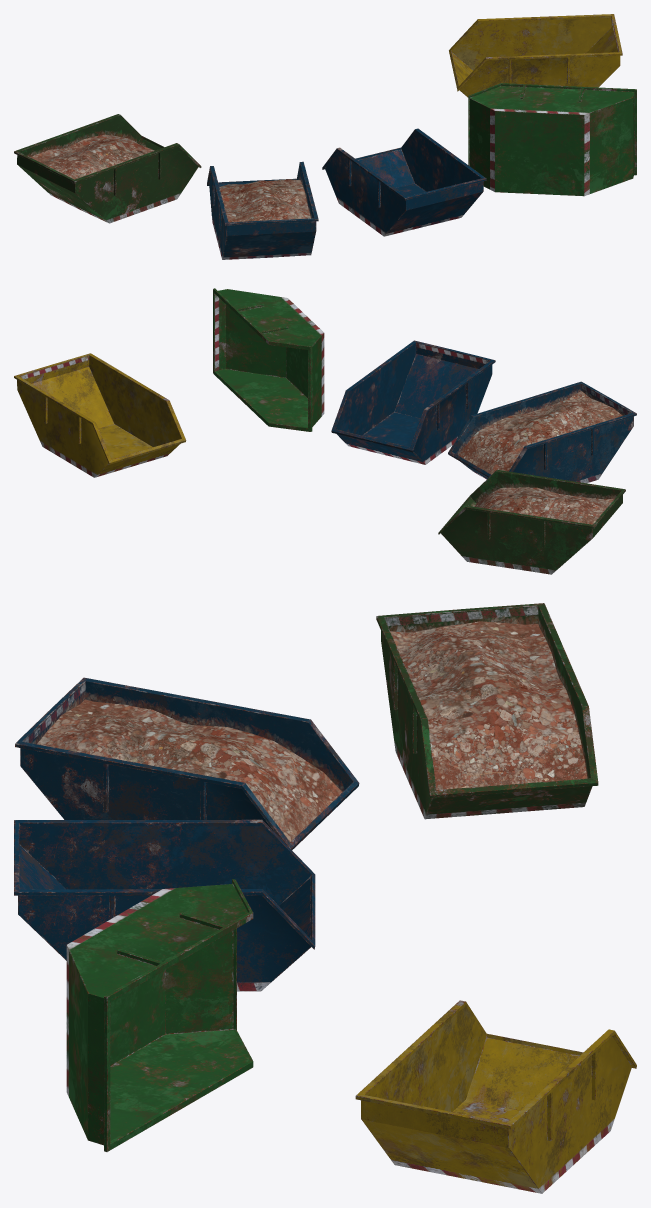
File: Trash_bin_upl.fbx
3 renders of one model, top to bottom at view 1: azimuth 30°, elevation 25°; view 2: azimuth 150°, elevation 25°; view 3: azimuth 270°, elevation 25°, orthographic. The views are drawn at different scales.
Visible parts, largest first — view 1: Trash_bin_empty.001, Trash_bin_full.001, Trash_bin_empty.002, Trash_bin_empty, Trash_bin_full; view 2: Trash_bin_empty.002, Trash_bin_empty, Trash_bin_full.001, Trash_bin_empty.001, Trash_bin_full; view 3: Trash_bin_full.001, Trash_bin_empty.001, Trash_bin_full, Trash_bin_empty.002, Trash_bin_empty.
Boxes of the visible parts, x1,y1,x2,y2 form: Trash_bin_empty.001: [468, 83, 636, 196]; Trash_bin_full.001: [14, 114, 201, 223]; Trash_bin_empty.002: [449, 14, 622, 97]; Trash_bin_empty: [322, 128, 486, 236]; Trash_bin_full: [207, 161, 318, 259]; Trash_bin_empty.002: [14, 353, 186, 477]; Trash_bin_empty: [331, 340, 495, 464]; Trash_bin_full.001: [438, 469, 625, 574]; Trash_bin_empty.001: [213, 288, 324, 431]; Trash_bin_full: [448, 381, 636, 483]; Trash_bin_full.001: [376, 603, 598, 819]; Trash_bin_empty.001: [66, 879, 253, 1151]; Trash_bin_full: [15, 677, 359, 849]; Trash_bin_empty.002: [355, 1000, 636, 1193]; Trash_bin_empty: [14, 819, 315, 991].
Bounding box in the file's own units: 1520 × 210 × 765.
